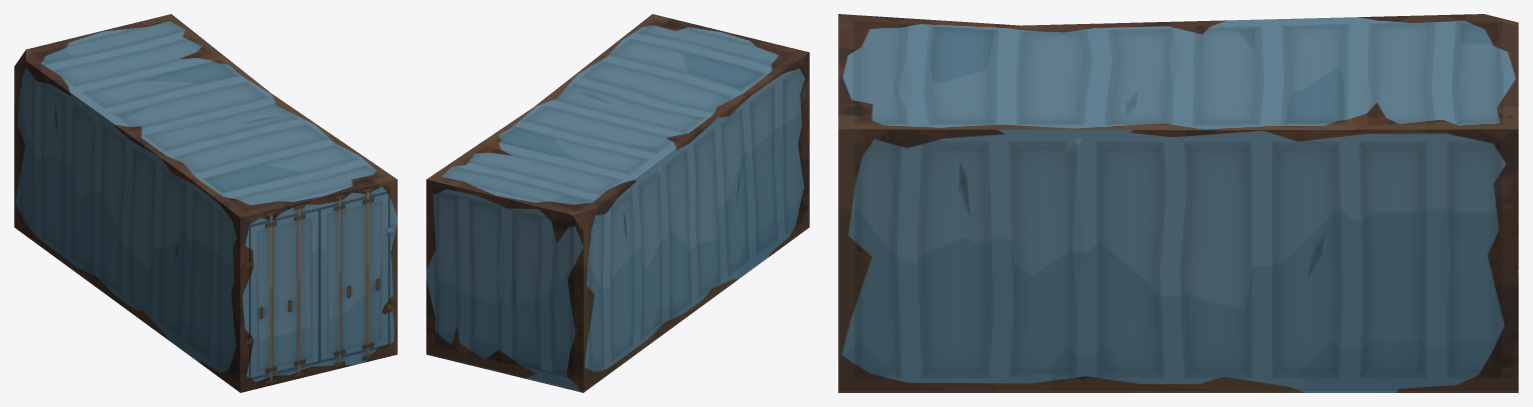
The model's file is SM_Prop_Container_03.fbx.
3 views of the same model, side by side, from view 1: azimuth 30°, elevation 25°; view 2: azimuth 150°, elevation 25°; view 3: azimuth 270°, elevation 25° (orthographic). The views are drawn at different scales.
Parts seen in each view (by area): view 1: SM_Prop_Container_03; view 2: SM_Prop_Container_03; view 3: SM_Prop_Container_03.
Boxes of the visible parts, <box> form: SM_Prop_Container_03: <box>14,14,397,392</box>; SM_Prop_Container_03: <box>426,14,809,392</box>; SM_Prop_Container_03: <box>838,14,1518,392</box>.
Bounding box in the file's own units: 243 × 259 × 606.
